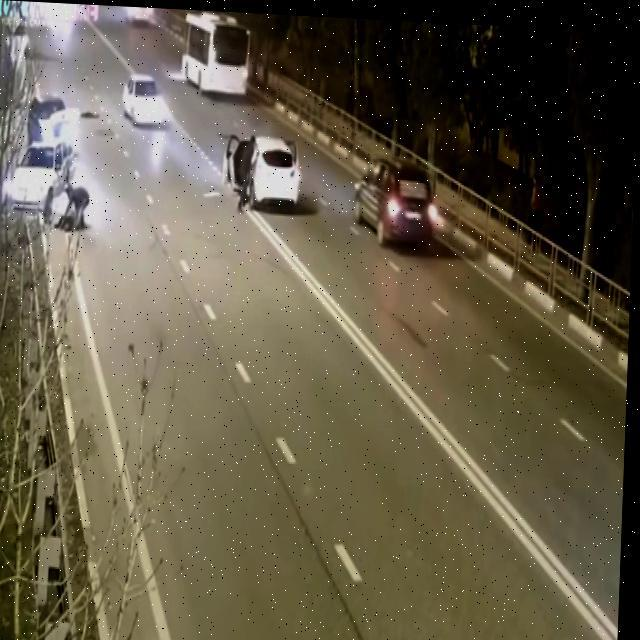multiple_accident: (0, 84, 110, 233)
normal: (332, 144, 460, 260), (212, 122, 319, 216), (169, 12, 273, 101), (97, 54, 183, 137)
